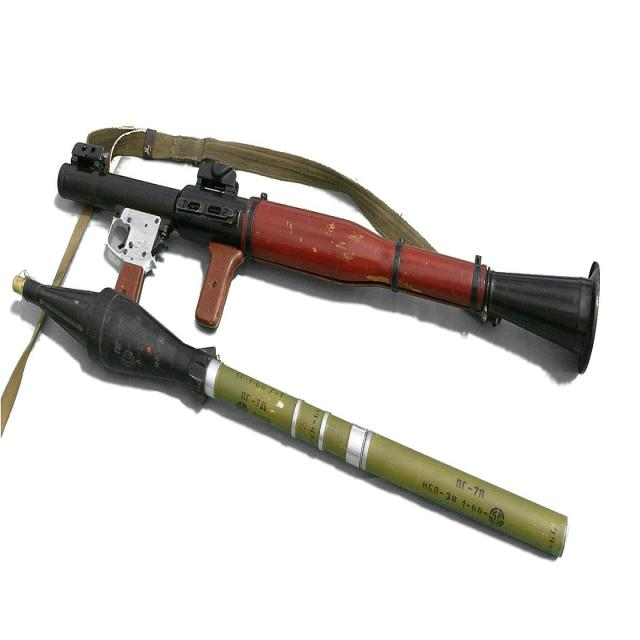Gun: (34, 112, 628, 432)
